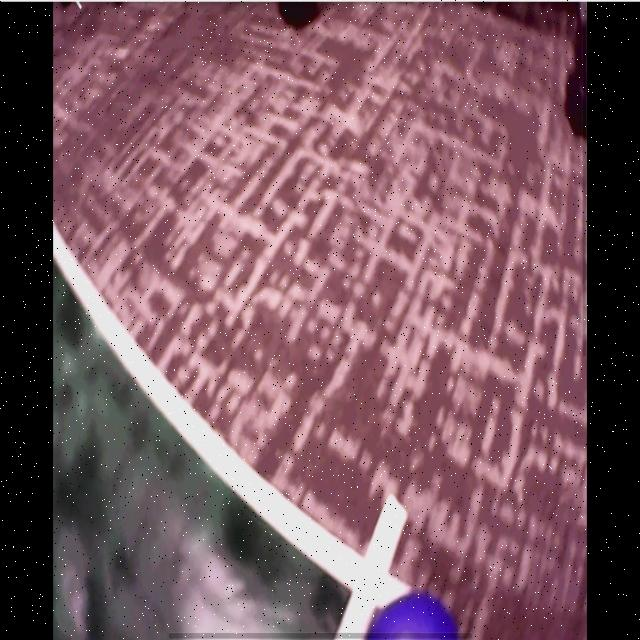ball: (371, 592, 458, 640)
